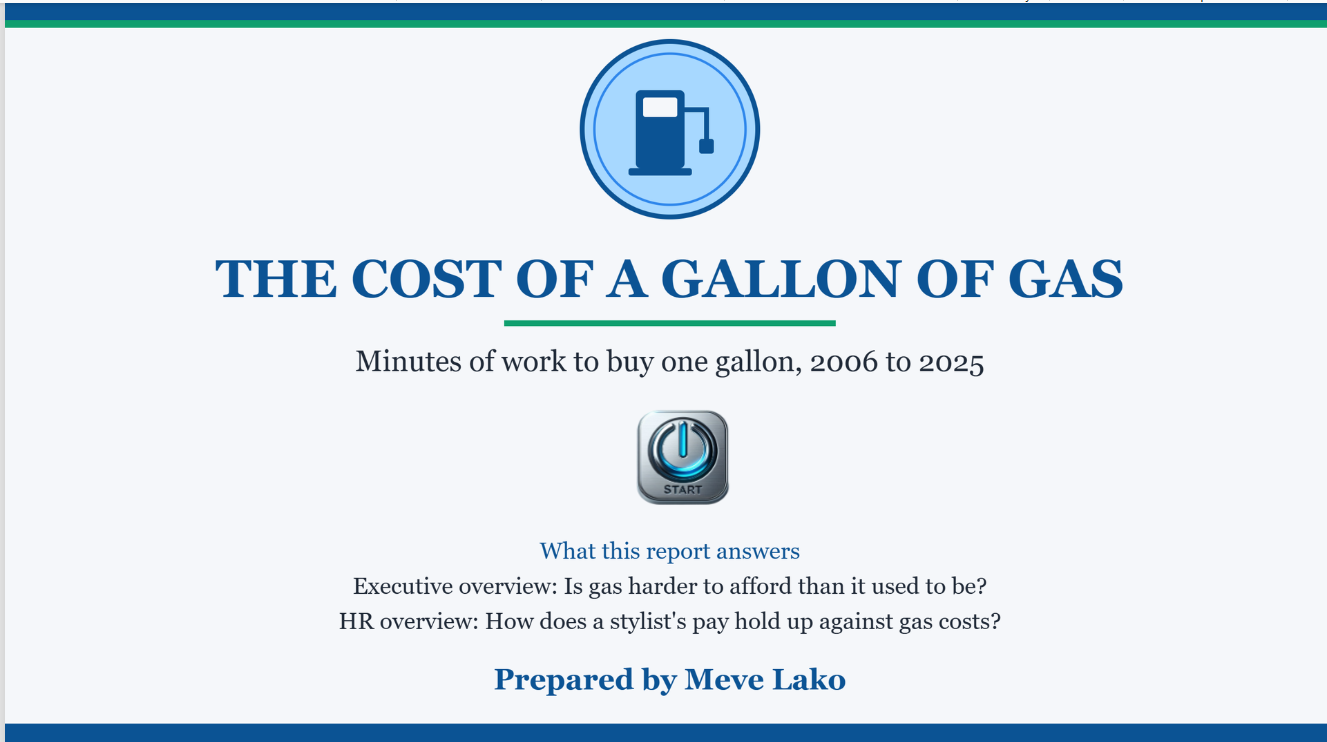

The dashboard page shown, as its layout file describes it:
{"tool":"powerbi","page":{"name":"Title Page","canvas":[1920,1080],"ordinal":0},"visuals":[{"type":"actionButton","box":[885.6,568.1,203,183.6],"z":0}]}

Visuals, with their boxes in screenshot pixels (x1, y1, x2, y2), scaled from the page's 1920x1080 canvas onto the 1327x742 screenshot:
actionButton: (left=612, top=390, right=752, bottom=516)
